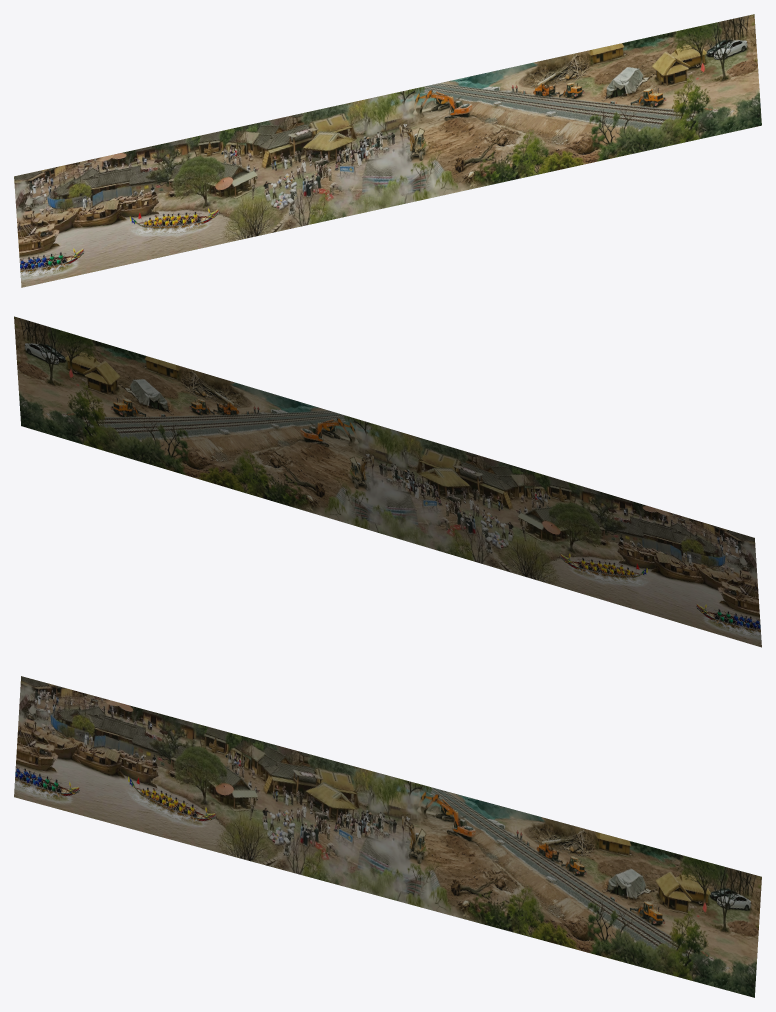
The picture shows the model from 3 angles, top to bottom: view 1: azimuth 30°, elevation 25°; view 2: azimuth 150°, elevation 25°; view 3: azimuth 330°, elevation 25°; orthographic projection. The views are drawn at different scales.
Parts seen in each view (by area): view 1: 平面; view 2: 平面; view 3: 平面.
Part boxes in pixels (bbox=[...]): 平面: bbox=[14, 14, 761, 287]; 平面: bbox=[14, 316, 761, 647]; 平面: bbox=[14, 676, 761, 997].
Size of the model in its own units: 13.91 by 2.16 by 1.21.
Materials: 1 (1 with a texture image).
